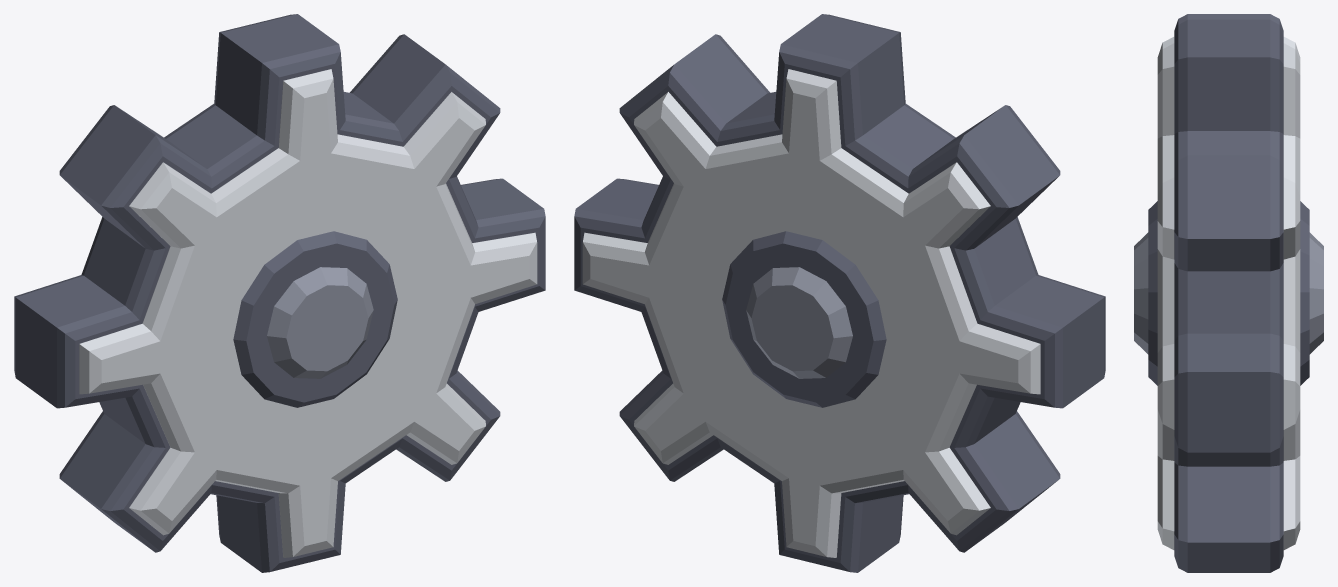
The model's file is game-ui-icon-library-cog-163073a1.glb.
3 renders of one model, left to right at view 1: azimuth 30°, elevation 25°; view 2: azimuth 150°, elevation 25°; view 3: azimuth 270°, elevation 25°, orthographic.
Visible parts, largest first — view 1: cog; view 2: cog; view 3: cog.
Part boxes in pixels (x1,y1,x2,y2): cog: (14,14,545,572); cog: (574,14,1105,572); cog: (1134,14,1323,572).
Bounding box in the file's own units: 0.94 × 0.94 × 0.3172.
